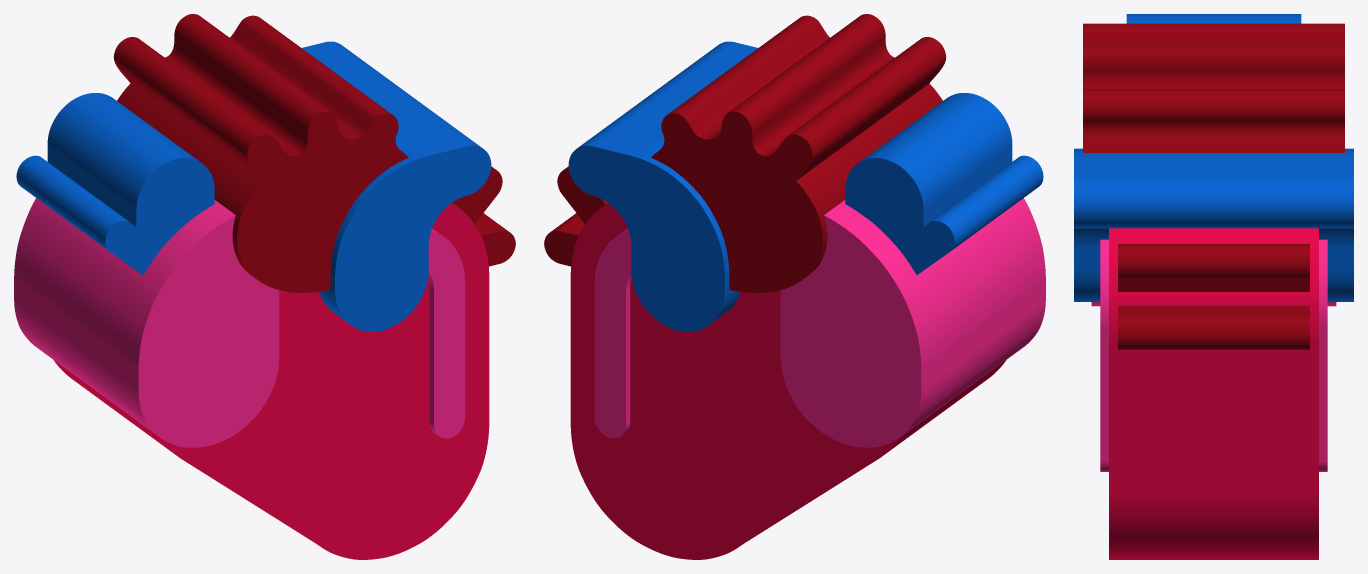
Rendered from U+1FAC0.obj.
3 renders of one model, left to right at view 1: azimuth 30°, elevation 25°; view 2: azimuth 150°, elevation 25°; view 3: azimuth 270°, elevation 25°, orthographic.
Visible parts, largest first — view 1: U+1FAC0_layer02_obj00, U+1FAC0_layer05_obj00, U+1FAC0_layer04_obj00, U+1FAC0_layer06_obj00, U+1FAC0_layer00_obj00, U+1FAC0_layer03_obj00, U+1FAC0_layer01_obj00; view 2: U+1FAC0_layer02_obj00, U+1FAC0_layer05_obj00, U+1FAC0_layer04_obj00, U+1FAC0_layer06_obj00, U+1FAC0_layer00_obj00, U+1FAC0_layer03_obj00, U+1FAC0_layer01_obj00; view 3: U+1FAC0_layer02_obj00, U+1FAC0_layer05_obj00, U+1FAC0_layer06_obj00, U+1FAC0_layer01_obj00, U+1FAC0_layer03_obj00, U+1FAC0_layer00_obj00.
Part boxes in pixels (x1,y1,x2,y2): U+1FAC0_layer02_obj00: (53,203,489,559); U+1FAC0_layer05_obj00: (113,14,408,292); U+1FAC0_layer04_obj00: (14,198,279,447); U+1FAC0_layer06_obj00: (302,41,491,331); U+1FAC0_layer00_obj00: (16,93,214,274); U+1FAC0_layer03_obj00: (428,229,465,438); U+1FAC0_layer01_obj00: (452,166,515,266); U+1FAC0_layer02_obj00: (570,203,1006,559); U+1FAC0_layer05_obj00: (651,14,946,292); U+1FAC0_layer04_obj00: (780,198,1045,447); U+1FAC0_layer06_obj00: (568,41,757,331); U+1FAC0_layer00_obj00: (845,93,1043,274); U+1FAC0_layer03_obj00: (594,229,631,438); U+1FAC0_layer01_obj00: (544,166,607,266); U+1FAC0_layer02_obj00: (1109,228,1318,559); U+1FAC0_layer05_obj00: (1083,23,1344,152); U+1FAC0_layer06_obj00: (1074,148,1353,301); U+1FAC0_layer01_obj00: (1118,244,1309,349); U+1FAC0_layer03_obj00: (1100,239,1327,471); U+1FAC0_layer00_obj00: (1126,14,1301,23).
Size of the model in its own units: 0.5272 by 0.588 by 0.32.
